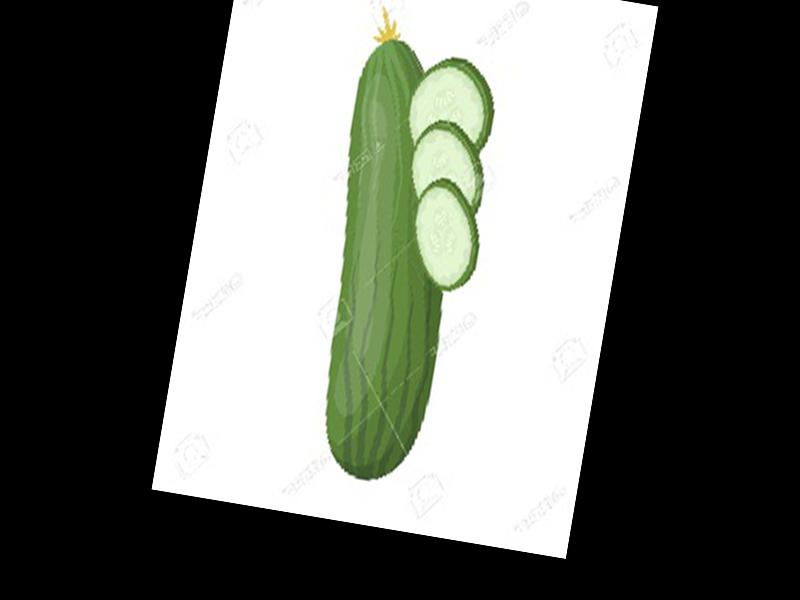Cucumber: (293, 8, 491, 491)
